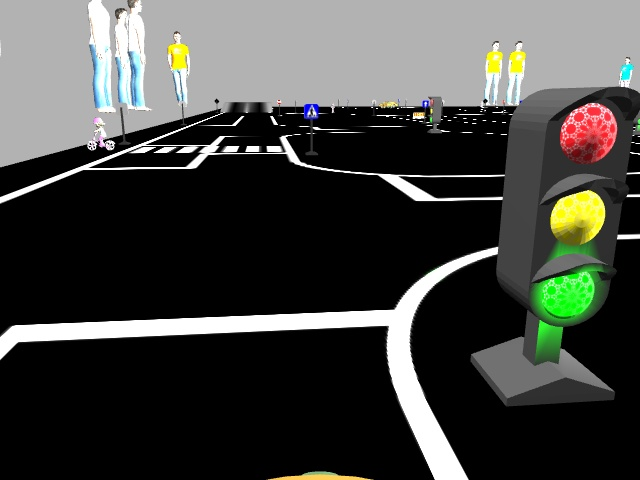Crosswalk: (303, 103, 317, 118)
Pedestrian: (86, 116, 115, 149)
TrafficLight: (499, 81, 624, 322)
